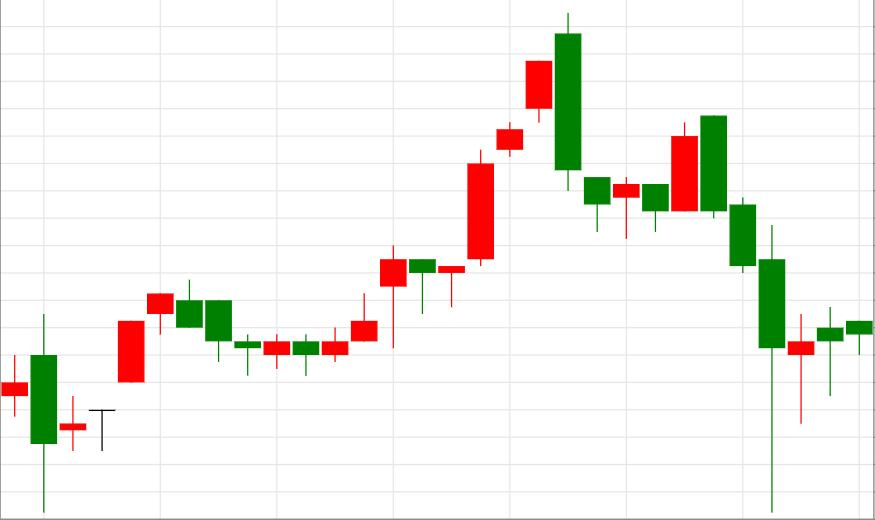bearish_engulfing_fall: (321, 12, 582, 362)
three_black_crows_fall: (614, 115, 785, 512)
